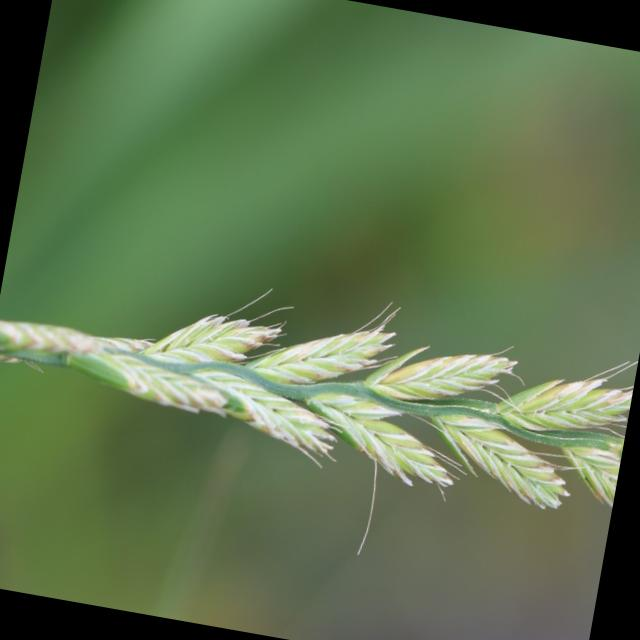Lolium: (0, 232, 638, 598)
